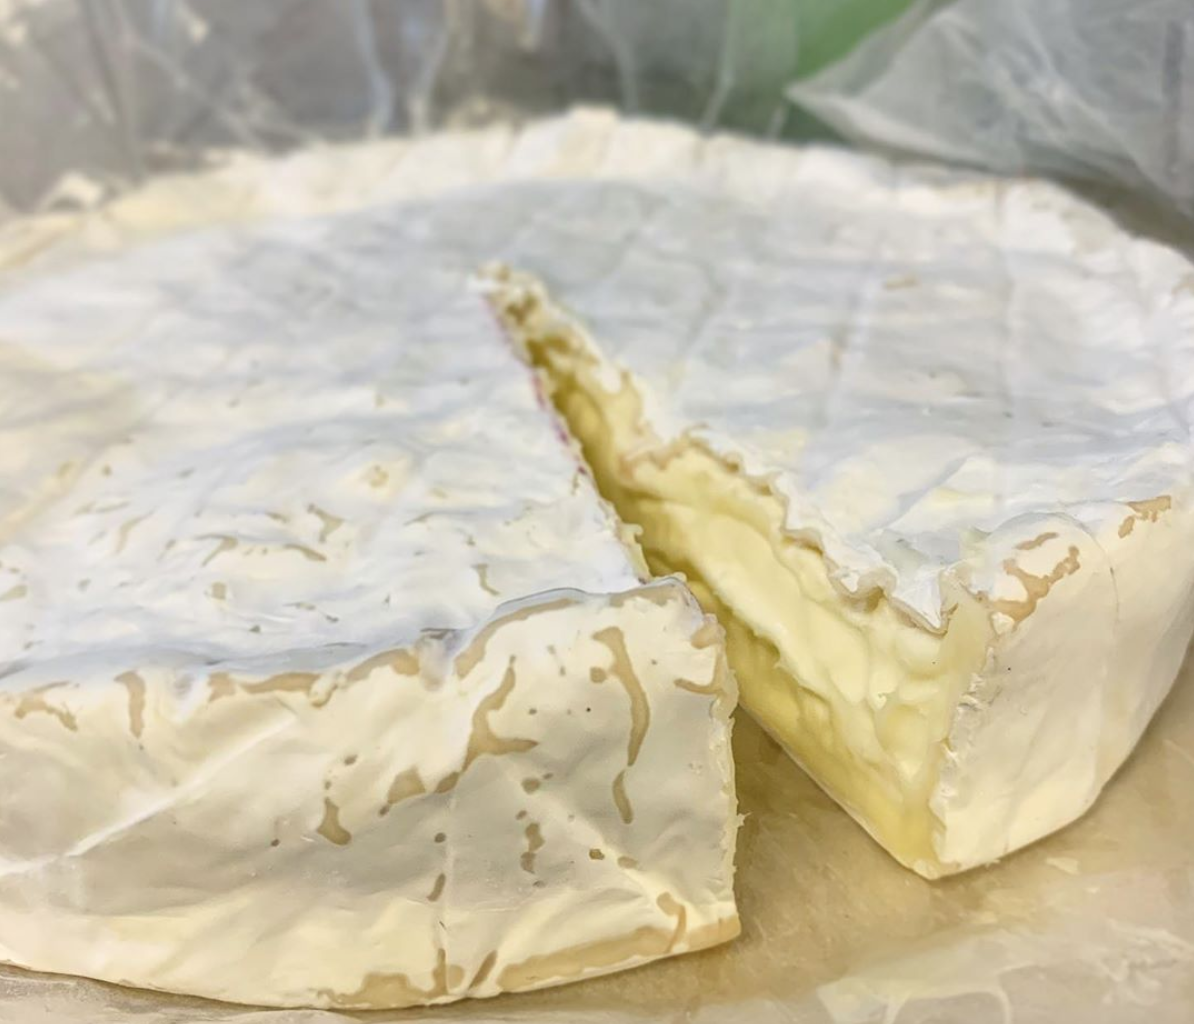camembert: (1, 96, 1194, 1009)
